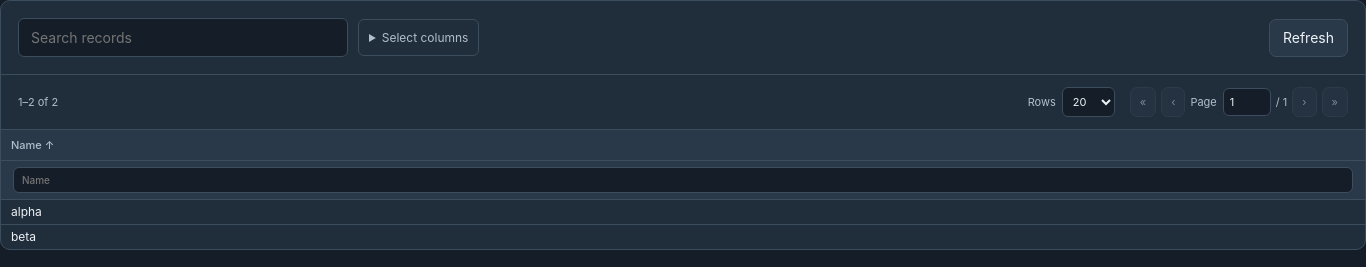
Scenario: toggles ascending and descending order and exposes sort state
The width and height of the screenshot is (1366, 267).
Click the button "Name ↑".
click(33, 145)  # box [11, 135, 54, 155]
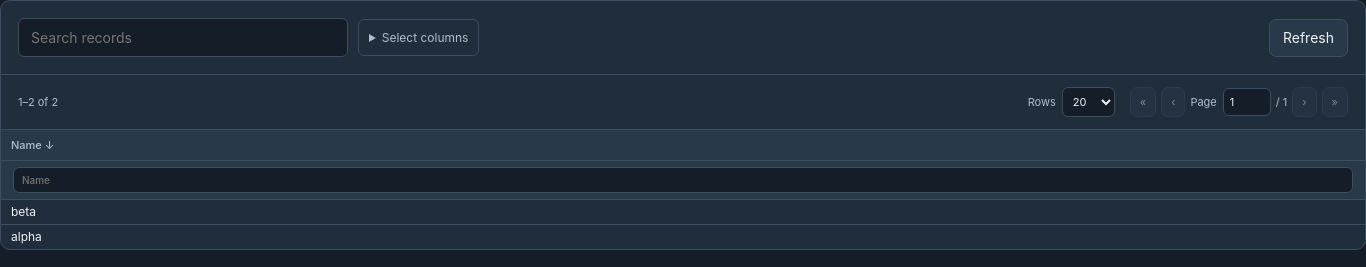
Check: the row "beta" is shown, box [1, 200, 1365, 225]
Click the button "Name ↓".
click(33, 145)  # box [11, 135, 54, 155]
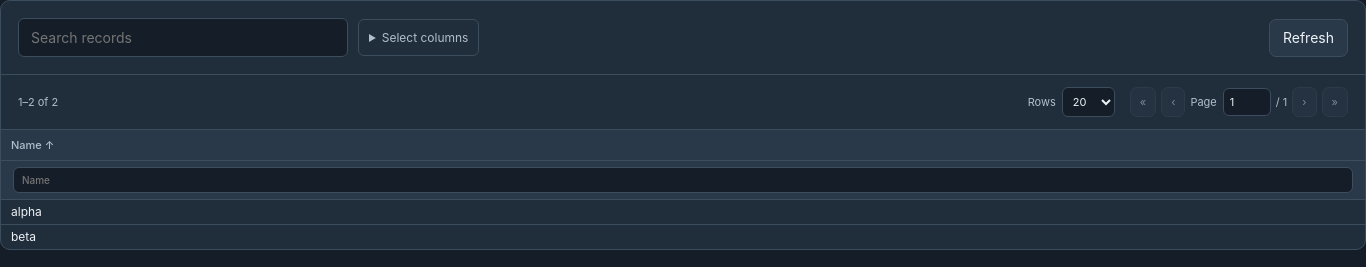
Check: the row "alpha" is shown, box [1, 200, 1365, 225]
